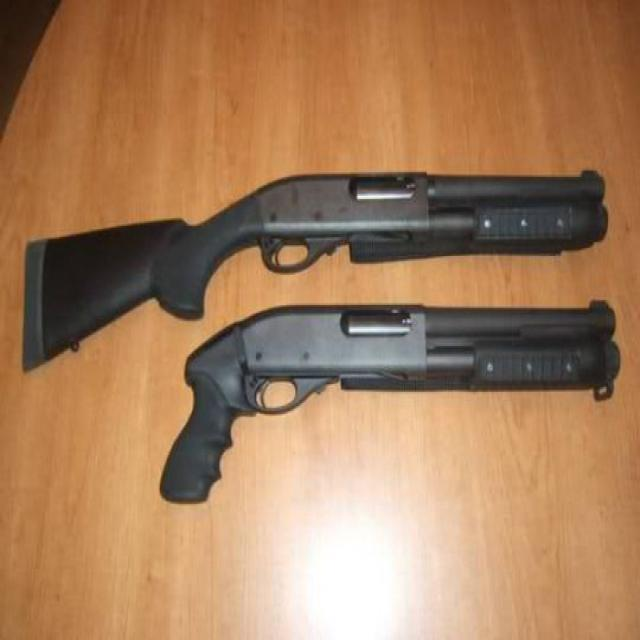shotgun: (15, 138, 613, 298)
